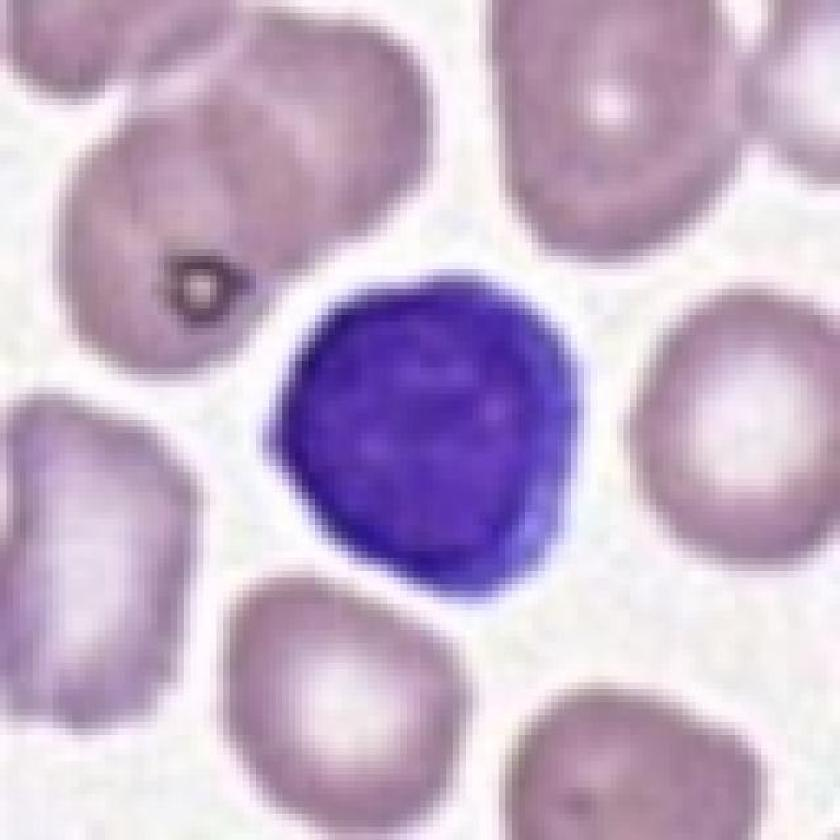lymphocyte: (256, 264, 593, 602)
